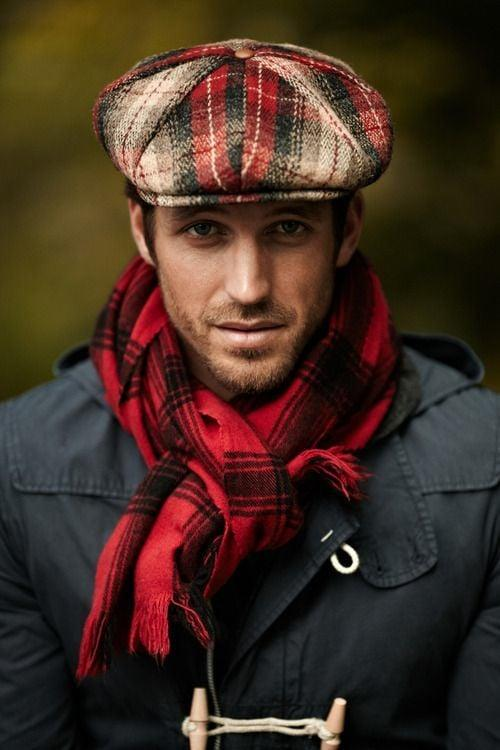cap: (88, 32, 424, 230)
